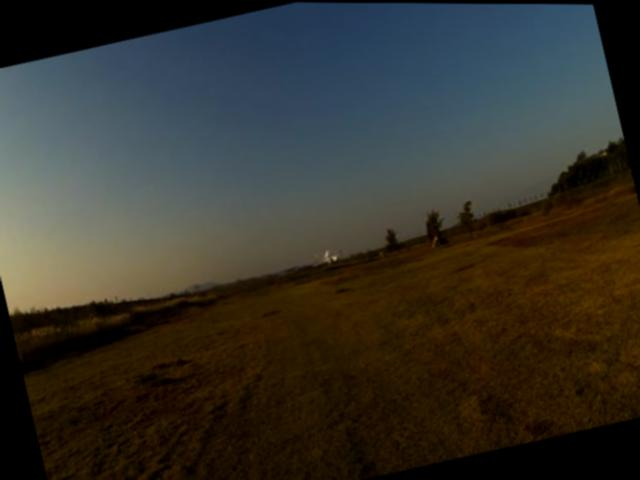uav: (300, 236, 358, 278)
